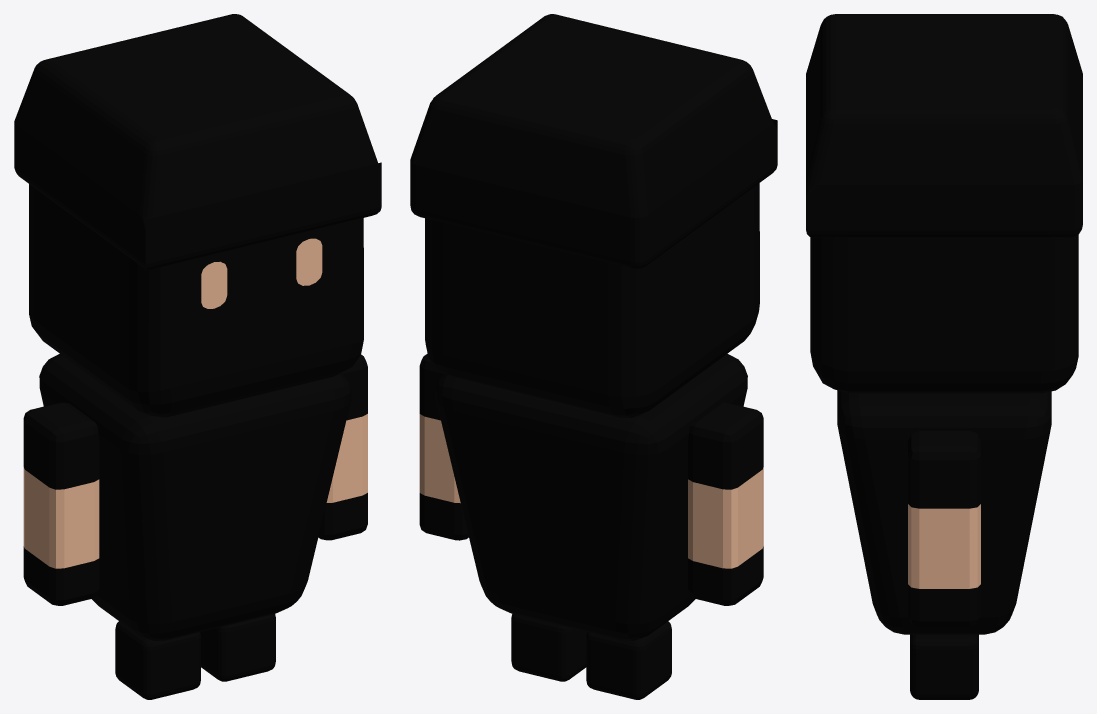
File: Räuber.fbx
3 renders of one model, left to right at view 1: azimuth 30°, elevation 25°; view 2: azimuth 150°, elevation 25°; view 3: azimuth 270°, elevation 25°, orthographic.
Visible parts, largest first — view 1: Räuber Mütze, Body, Räuber Fulllmask, Arm right, Räuber Bandage, Arm left, Leg right, Leg left, Head; view 2: Räuber Mütze, Body, Räuber Fulllmask, Arm right, Räuber Bandage, Arm left, Leg right, Leg left; view 3: Räuber Mütze, Räuber Fulllmask, Body, Arm left, Räuber Bandage, Leg left.
Part boxes in pixels (box(x1,y1,x2,y2)): Räuber Mütze: box(14, 14, 381, 270); Body: box(39, 354, 351, 640); Räuber Fulllmask: box(29, 184, 363, 417); Arm right: box(23, 402, 99, 605); Räuber Bandage: box(33, 188, 344, 331); Arm left: box(318, 354, 367, 540); Leg right: box(115, 621, 200, 699); Leg left: box(200, 614, 275, 681); Head: box(201, 238, 322, 308); Räuber Mütze: box(410, 14, 777, 269); Body: box(435, 353, 747, 640); Räuber Fulllmask: box(425, 183, 759, 417); Arm right: box(688, 402, 763, 605); Räuber Bandage: box(426, 189, 753, 332); Arm left: box(419, 353, 468, 540); Leg right: box(586, 621, 671, 699); Leg left: box(511, 614, 586, 681); Räuber Mütze: box(806, 14, 1082, 237); Räuber Fulllmask: box(810, 234, 1078, 393); Body: box(837, 390, 1051, 634); Arm left: box(908, 430, 980, 626); Räuber Bandage: box(847, 237, 1067, 307); Leg left: box(910, 634, 978, 699).
Size of the model in its own units: 269 by 486 by 200.
